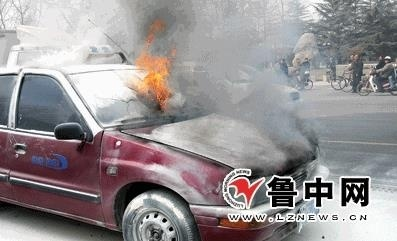fire: (130, 21, 179, 111)
